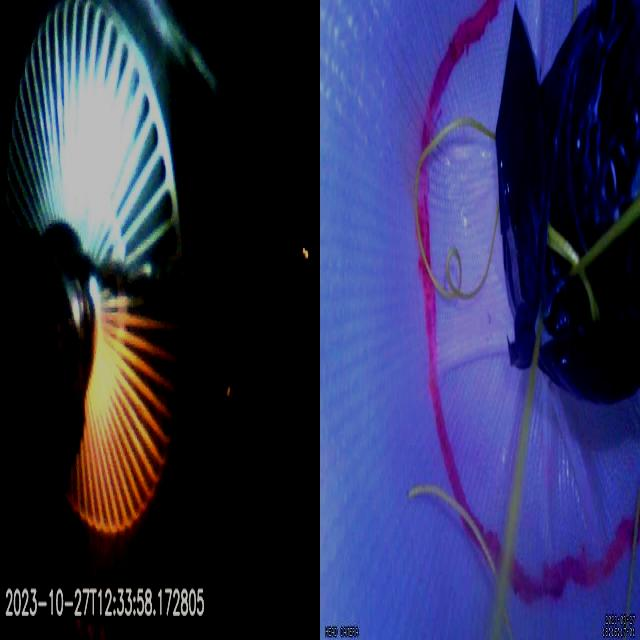red-circle: (418, 0, 640, 603)
